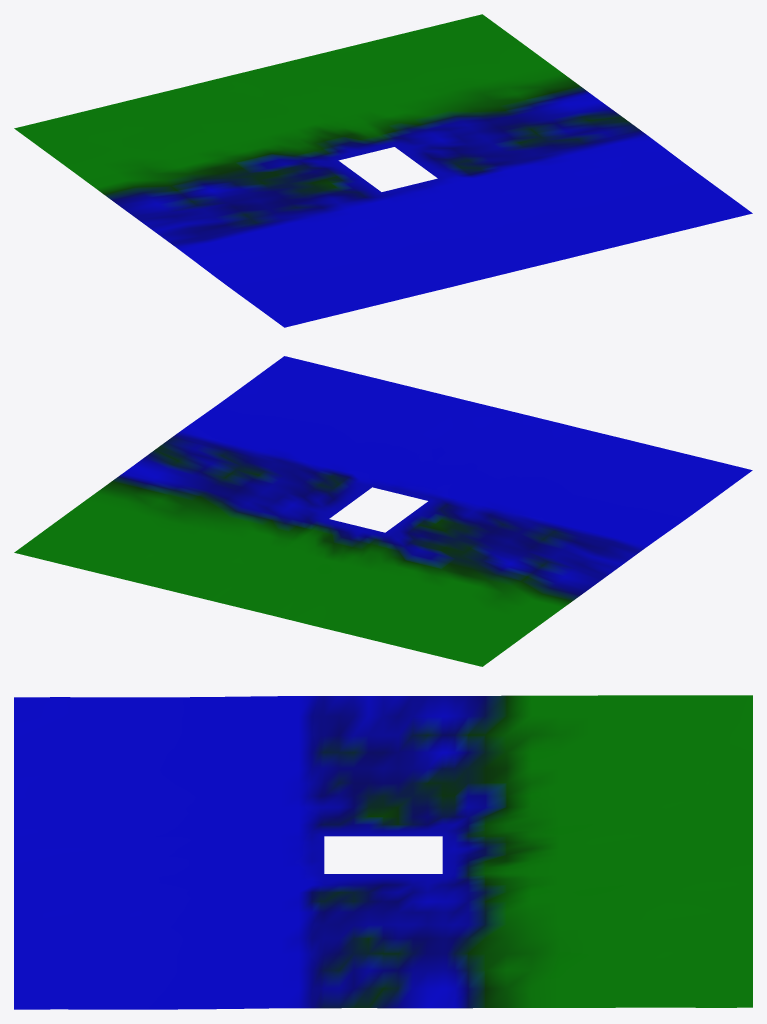
File: mudflat_far.glb
3 renders of one model, top to bottom at view 1: azimuth 30°, elevation 25°; view 2: azimuth 150°, elevation 25°; view 3: azimuth 270°, elevation 25°, orthographic. The views are drawn at different scales.
Parts seen in each view (by area): view 1: mudflat_far; view 2: mudflat_far; view 3: mudflat_far.
Boxes of the visible parts, bbox=[...] form: mudflat_far: bbox=[14, 14, 752, 327]; mudflat_far: bbox=[14, 356, 752, 666]; mudflat_far: bbox=[14, 695, 752, 1009].
Size of what is drawn, in the model's own units: 1200 by 3.41 by 1200.
